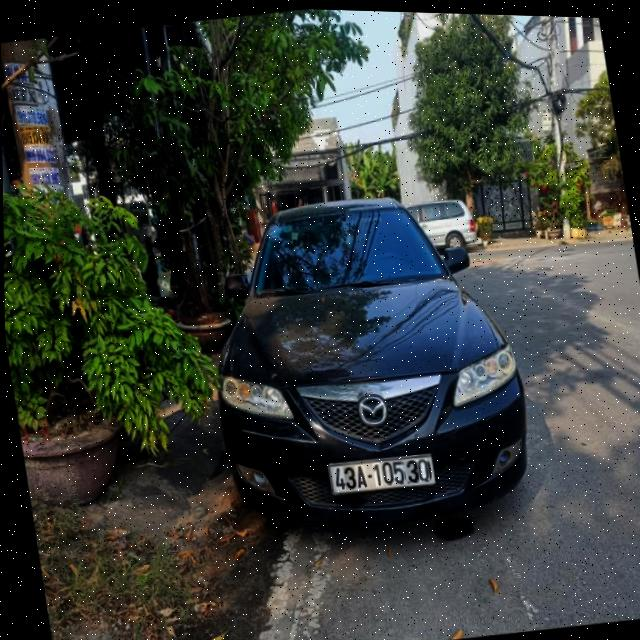car: (184, 168, 536, 556), (408, 188, 485, 264)
plate: (324, 445, 443, 504)
